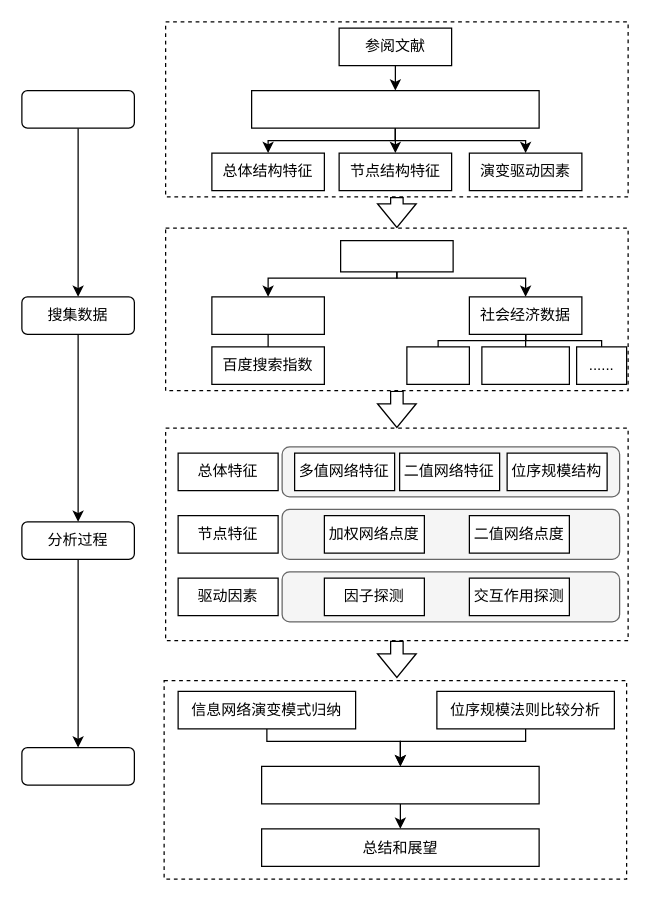
Some shapes in this 650 by 901 pixel diagram are drawn without their labels. Here are the shapes that lost their labels. From the top down, the centre of each, then its label:
(x=77, y=108): 提出问题
(x=394, y=108): 城市群信息网络结构如何演变？
(x=396, y=255): 数据集
(x=267, y=315): 信息网络数据
(x=437, y=365): 人口
(x=525, y=365): 建成区面积
(x=77, y=765): 讨论和结论
(x=399, y=784): 城市群发展和规划建议
